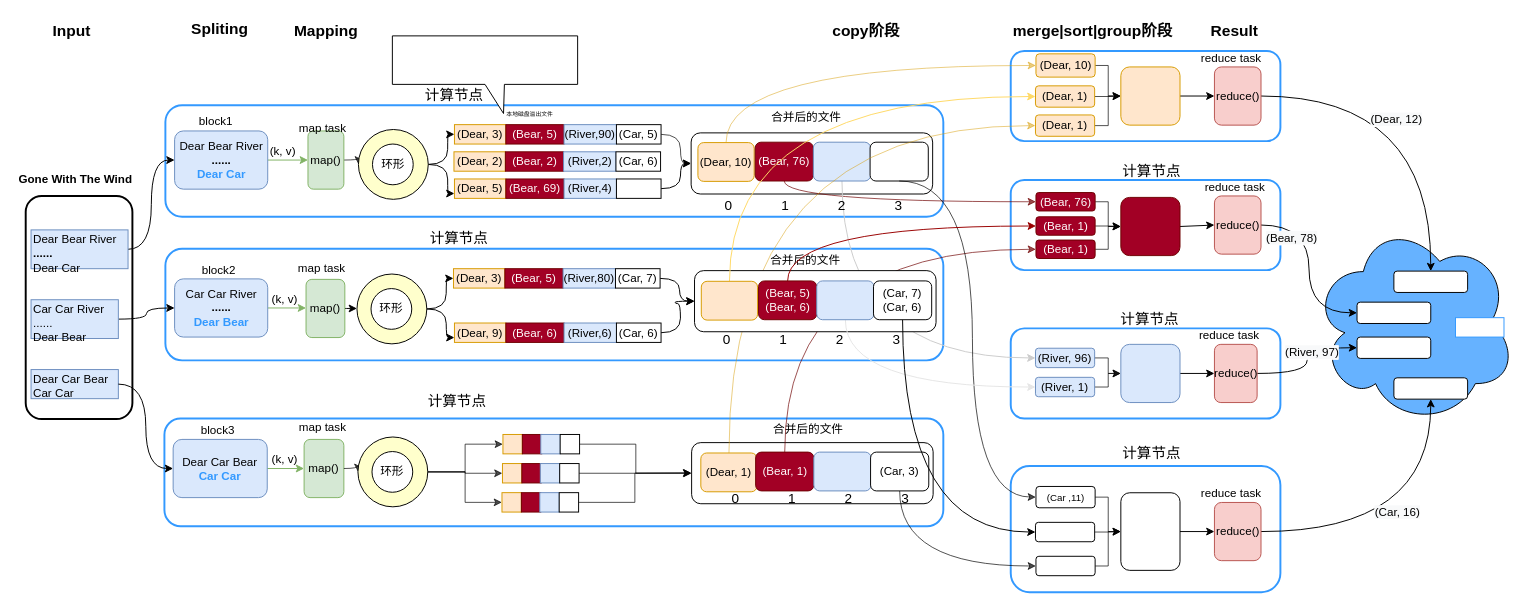
Image size: 1534x610. Some labels were removed from this diagram. Each missing label, with the centre of its shape:
"(Bear, 76) (Bear, 1) (Bear, 1)" belongs at point 1150,226.
"(Car ,11) (Car ,2) (Car ,3)" belongs at point 1150,531.
"(Car ,2)" belongs at point 1065,531.
"(Car ,3)" belongs at point 1065,565.
"(Car, 11)" belongs at point 898,161.
"(Dear, 10) (Dear, 1) (Dear, 1)" belongs at point 1150,95.
"(Dear, 3) (Dear, 9)" belongs at point 729,300.
"(River, 96) (River, 1)" belongs at point 1150,373.
"(River,80) (River,6)" belongs at point 845,300.
"(River,96)" belongs at point 841,161.
"HDFS" belongs at point 1479,327.
"part-r-00000" belongs at point 1430,281.
"part-r-00001" belongs at point 1393,312.
"part-r-00002" belongs at point 1393,347.
"part-r-00003" belongs at point 1430,388.
"溢出过程分区、排序、 combine" belongs at point 484,74.
